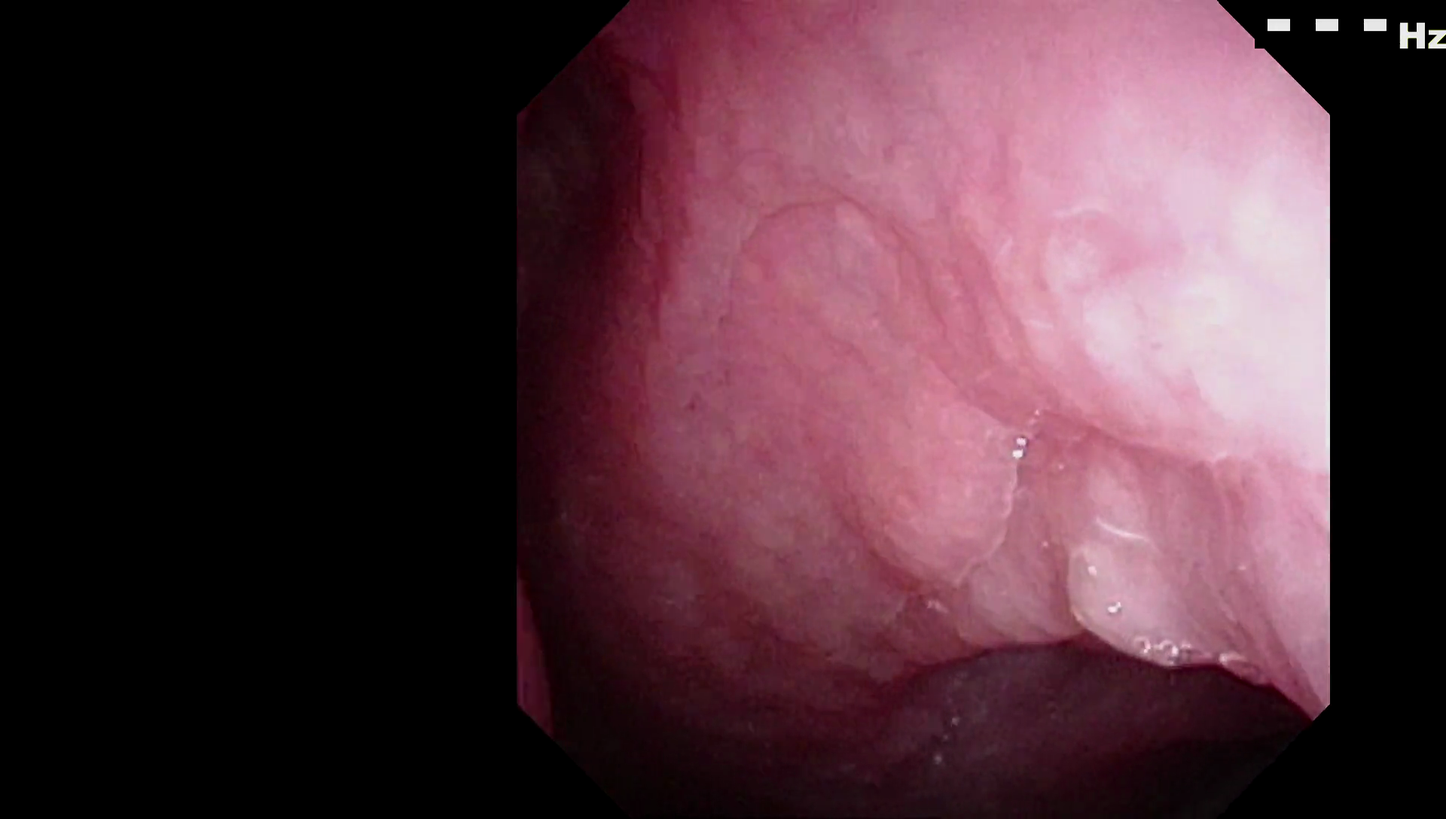close_wall: (895, 68, 1288, 622)
next: (545, 662, 862, 794), (518, 452, 648, 736), (1078, 651, 1294, 802)
